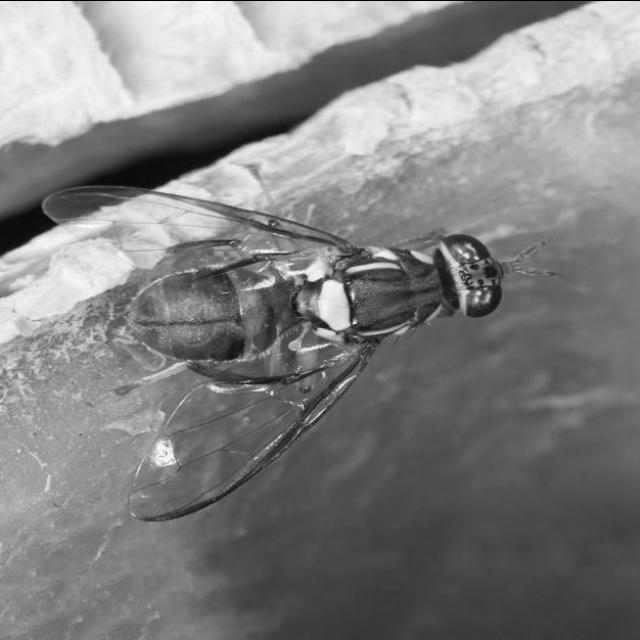Fruit fly: (28, 176, 567, 529)
